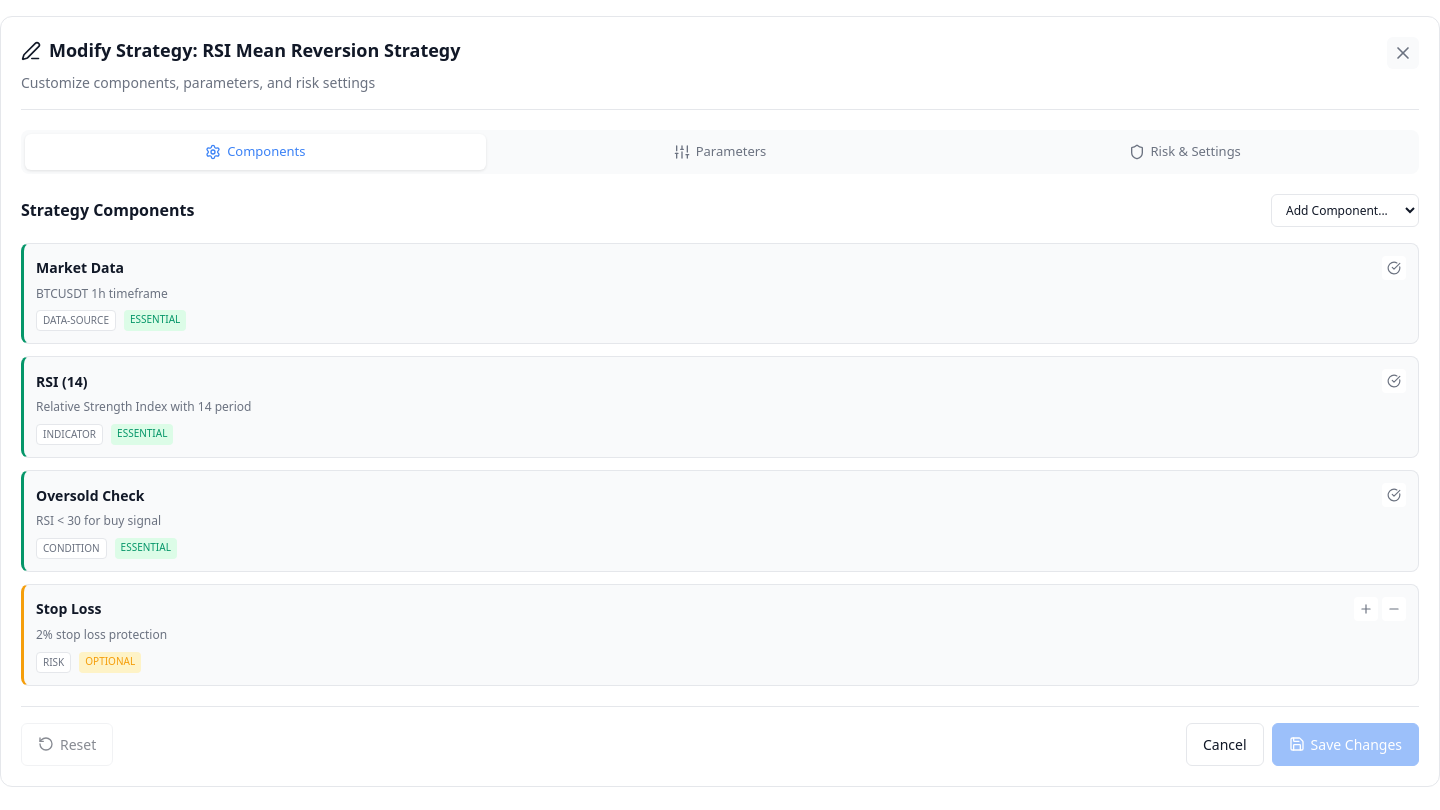
StrategyModifier Component › allows adding new components
This screenshot has width=1440, height=810.
# Find and use the add component dropdown
Select "Technical Indicator" in the dropdown showing "Add Component...": [1345, 210] box [1271,194,1419,226]
(page scrolled)
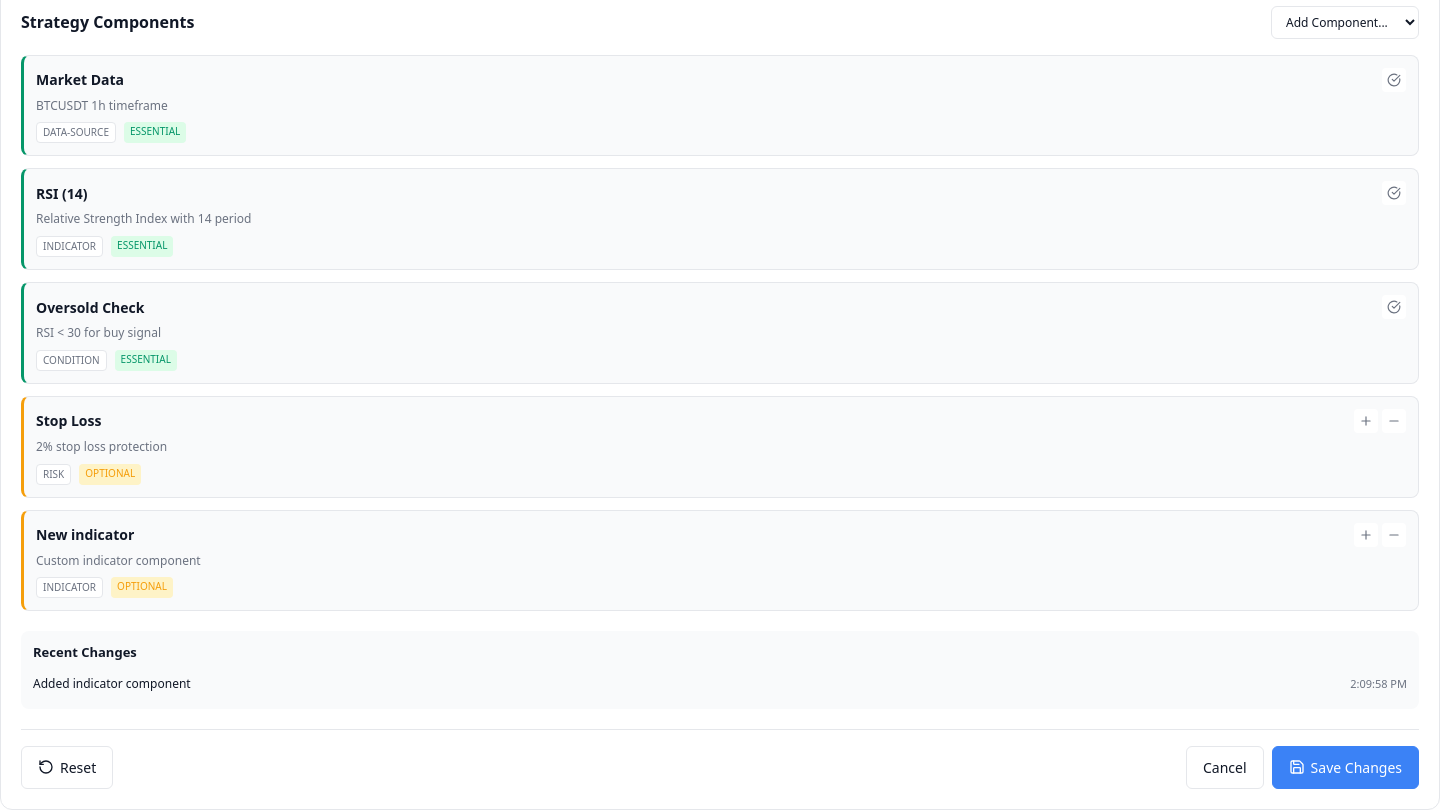
Now the heading "Recent Changes" is shown, box [33,644,137,662]
